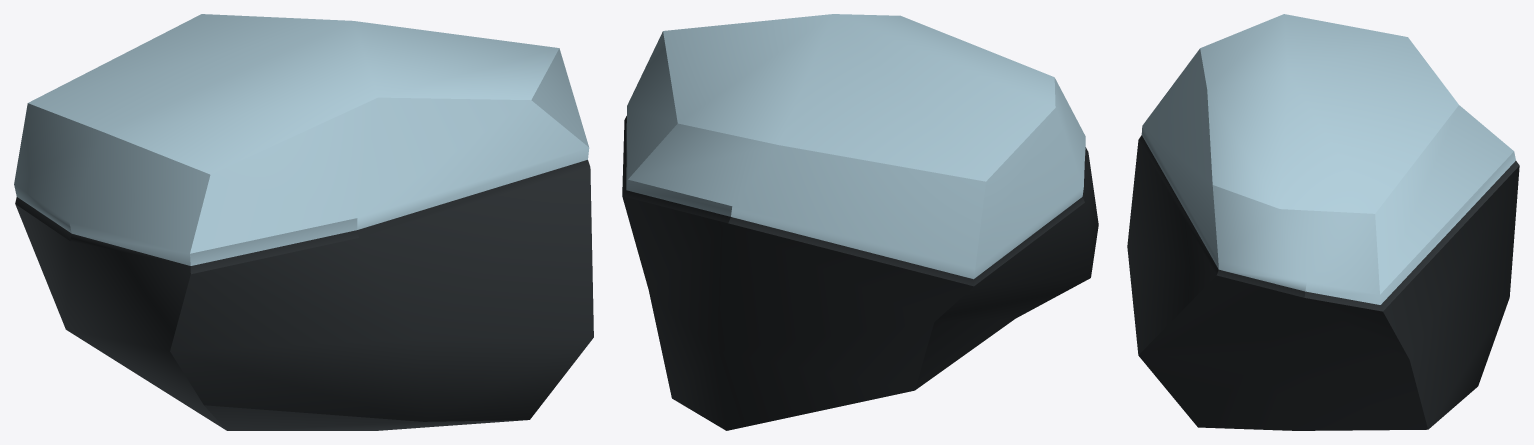
File: Geo_StoneMedium.fbx
3 views of the same model, side by side, from view 1: azimuth 30°, elevation 25°; view 2: azimuth 150°, elevation 25°; view 3: azimuth 270°, elevation 25° (orthographic). The views are drawn at different scales.
Visible parts, largest first — view 1: StoneMedium_Mesh; view 2: StoneMedium_Mesh; view 3: StoneMedium_Mesh.
Boxes of the visible parts, x1=… form: StoneMedium_Mesh: x1=14, y1=14, x2=593, y2=430; StoneMedium_Mesh: x1=622, y1=14, x2=1098, y2=430; StoneMedium_Mesh: x1=1127, y1=14, x2=1519, y2=430.
Bounding box in the file's own units: 160 × 121 × 131.
